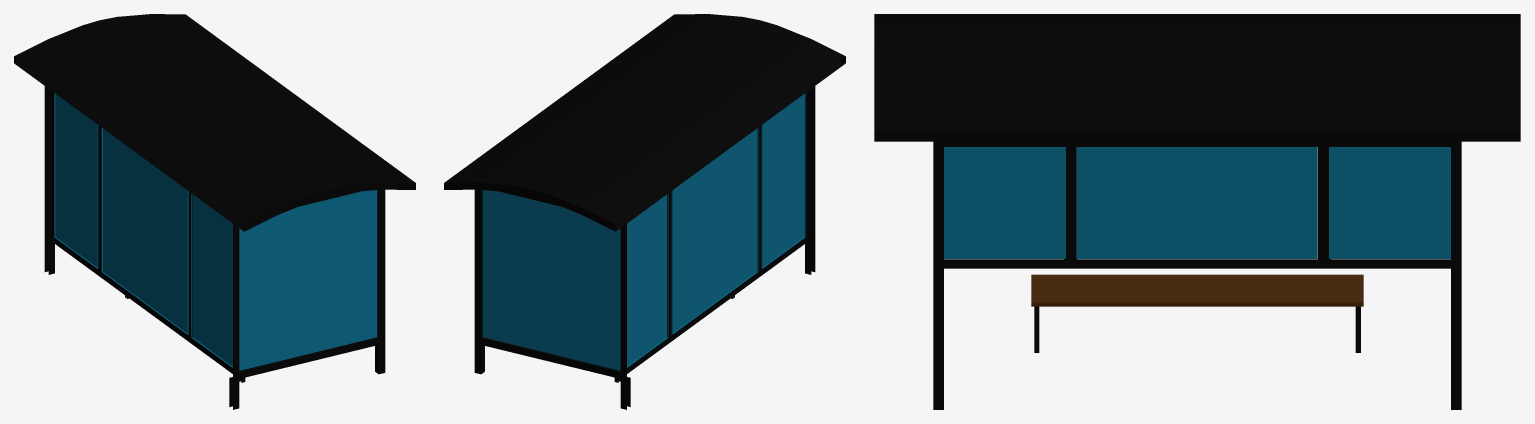
File: Bus Stop.fbx
3 renders of one model, left to right at view 1: azimuth 30°, elevation 25°; view 2: azimuth 150°, elevation 25°; view 3: azimuth 270°, elevation 25°, orthographic. The views are drawn at different scales.
Visible parts, largest first — view 1: Bus Stop; view 2: Bus Stop; view 3: Bus Stop.
Boxes of the visible parts, left/top/right/bottom form: Bus Stop: left=14, top=14, right=415, bottom=409; Bus Stop: left=444, top=14, right=845, bottom=409; Bus Stop: left=874, top=14, right=1520, bottom=409.
Bounding box in the file's own units: 3.07 × 3.9 × 7.13.
